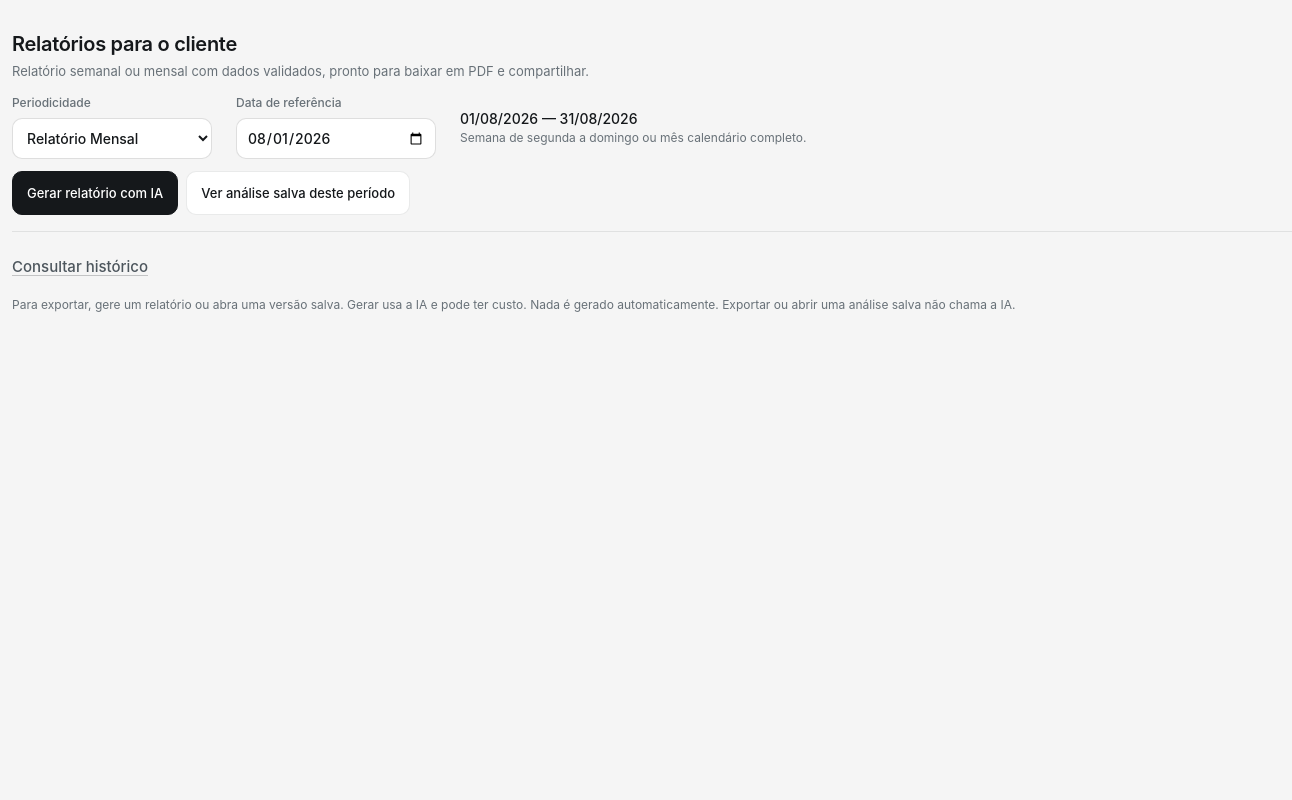
Scenario: Relatórios — fluxo autorizado existente e estados › seleção semanal usa intervalo calculado sem mudar a empresa
This screenshot has width=1292, height=800.
Select "Relatório Semanal" in the dropdown labelled "Periodicidade": (112, 138) [12,118,212,159]
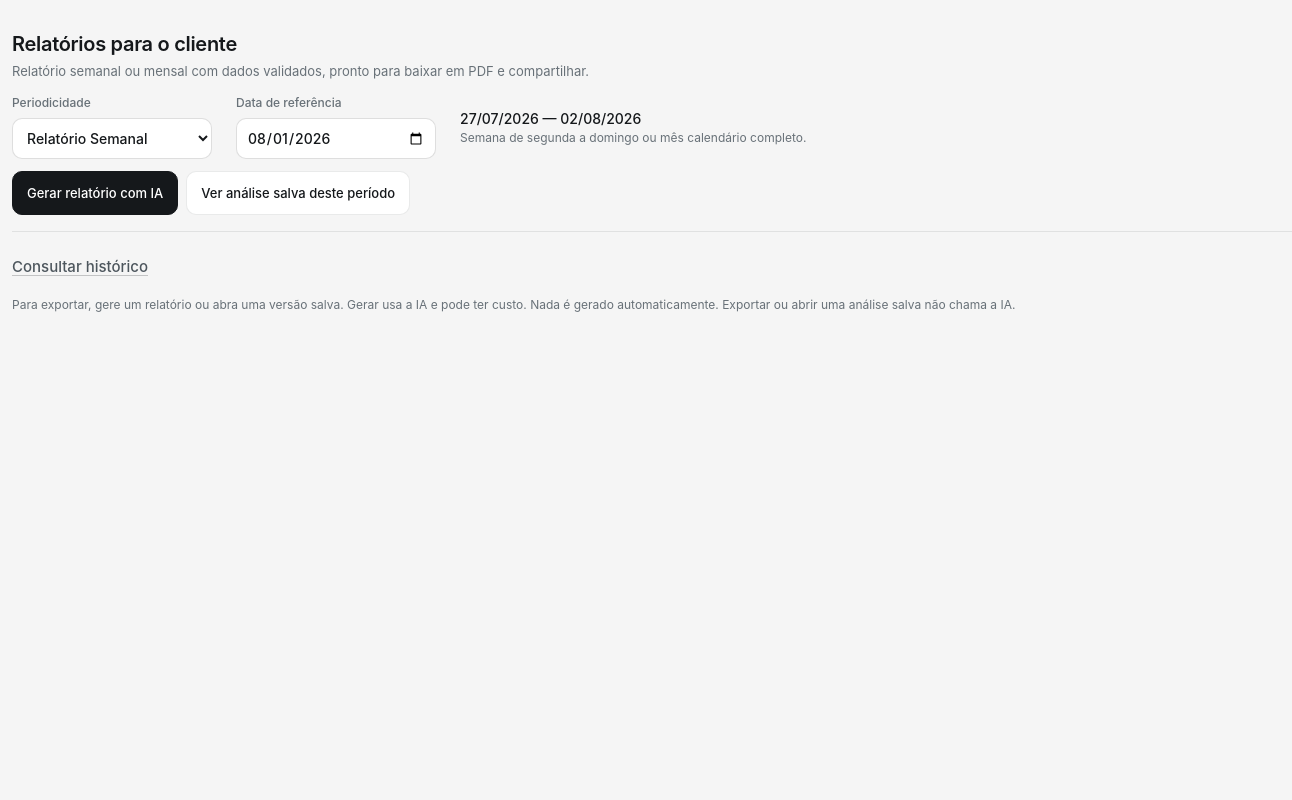
Submit the form, box [12,95,806,215]
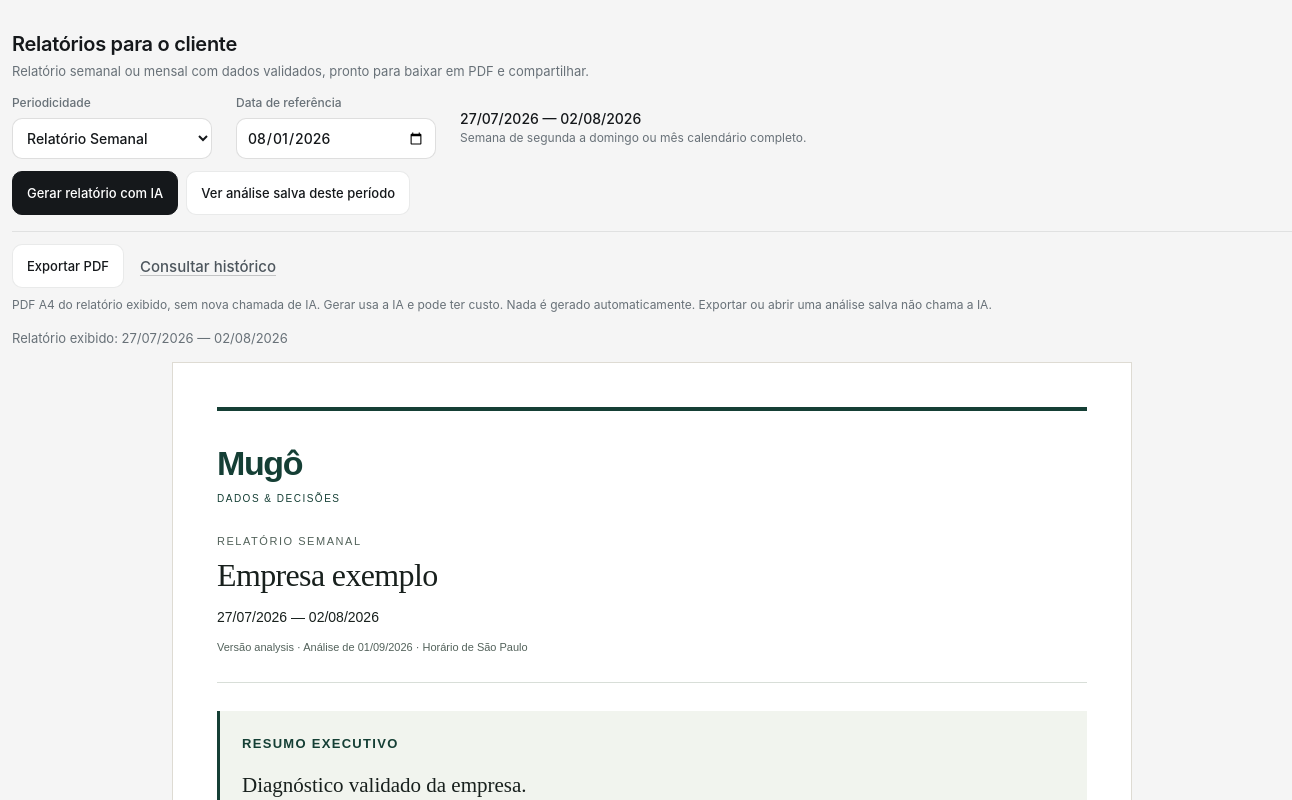
Check: the header with class "mugoReportHeader" shows "Relatório Semanal", box [217,407,1087,683]
